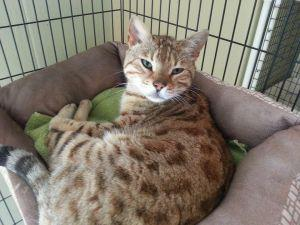bengal: (122, 13, 212, 112)
